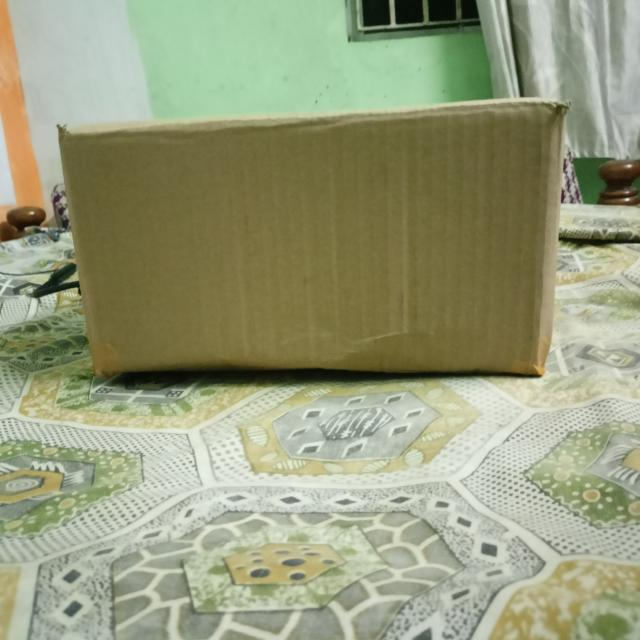box: (62, 103, 561, 375)
